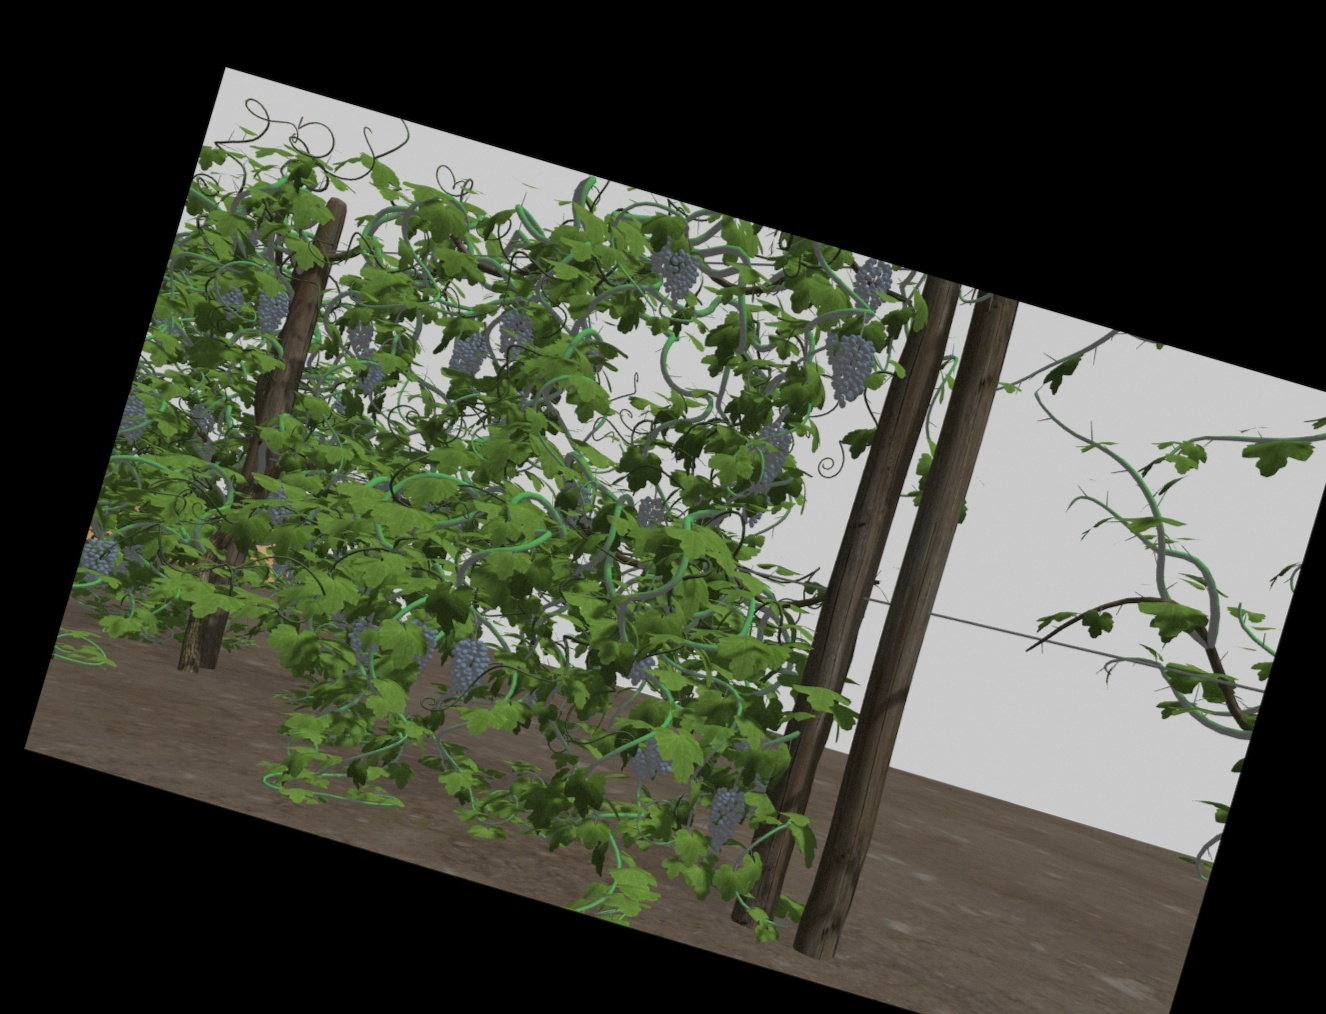grape: (831, 336, 873, 408), (753, 421, 789, 491), (445, 640, 485, 699), (851, 261, 889, 320), (707, 786, 741, 850), (497, 309, 535, 362), (633, 739, 673, 784), (449, 331, 486, 375), (353, 349, 383, 400), (255, 287, 287, 336), (669, 251, 697, 301), (83, 539, 117, 578), (122, 398, 146, 446), (648, 240, 677, 275), (346, 315, 373, 354), (636, 496, 665, 531)
